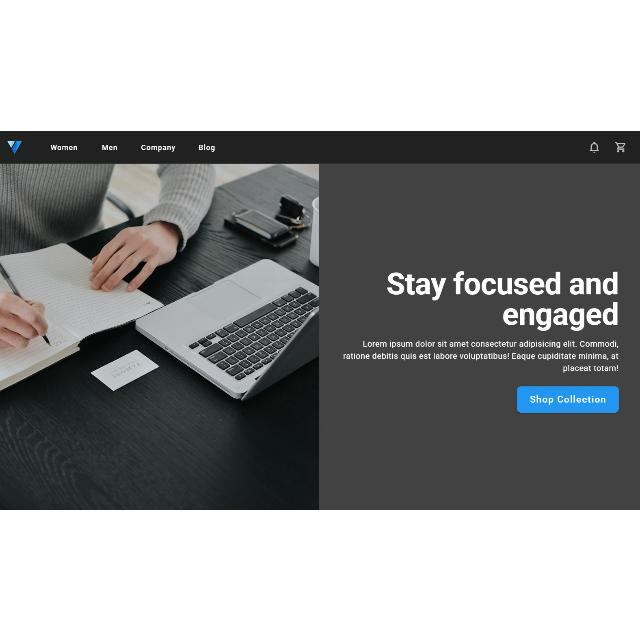QLabel: (384, 270, 620, 300), (504, 301, 618, 331), (361, 338, 619, 348), (342, 352, 620, 361), (524, 394, 606, 404), (561, 364, 619, 372), (140, 144, 176, 150), (49, 144, 77, 150), (198, 143, 216, 151), (101, 144, 117, 150)
VAppBar: (0, 130, 640, 162)
VBtn: (516, 385, 620, 413)
VIcon: (614, 140, 626, 152), (589, 140, 599, 152)
VImg: (1, 163, 320, 509), (6, 140, 22, 154)
